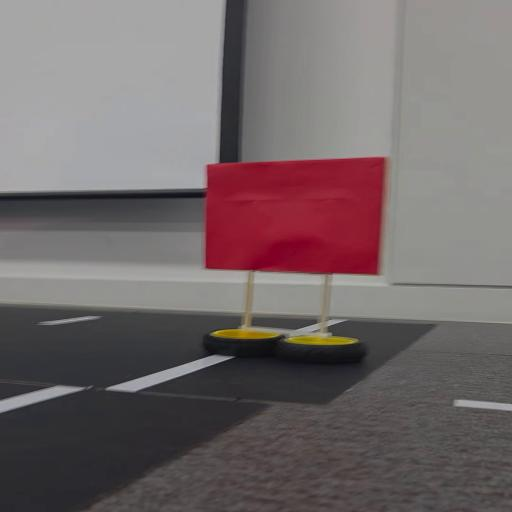Sign_A: (199, 155, 391, 358)
